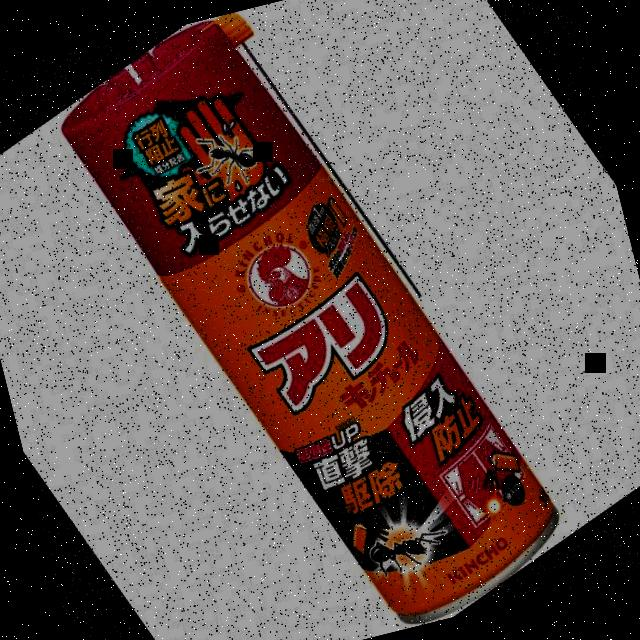chemical_spray_can: (61, 12, 558, 624)
